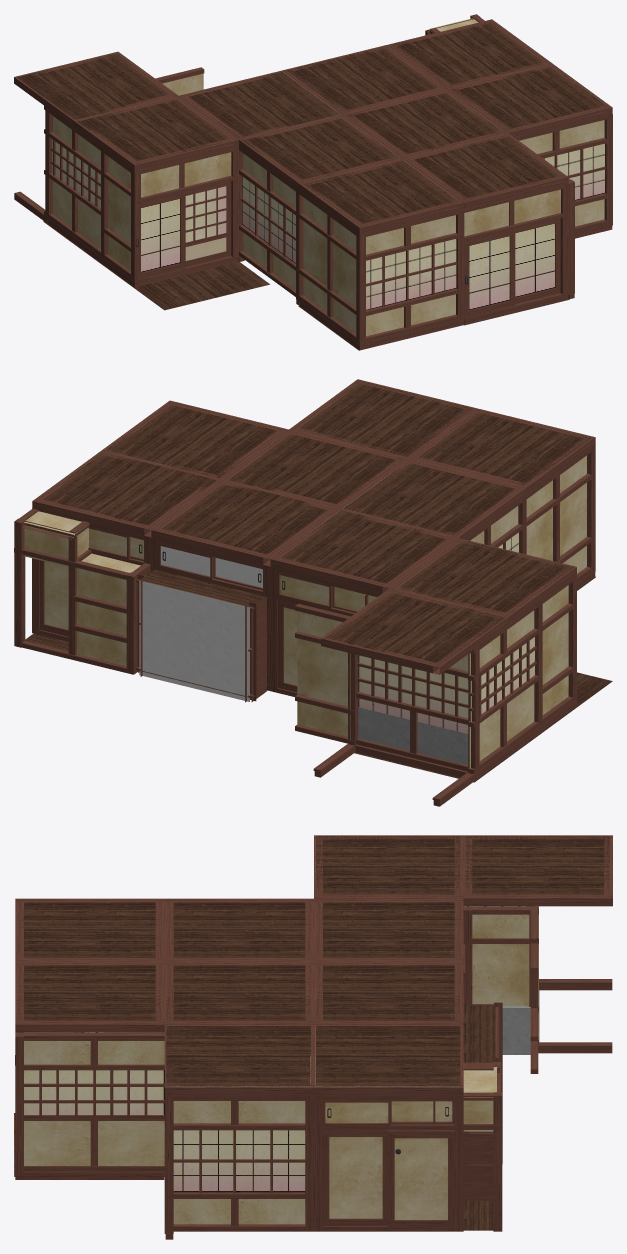
Rendered from japanese_machiya.fbx.
3 views of the same model, one above another, from view 1: azimuth 30°, elevation 25°; view 2: azimuth 150°, elevation 25°; view 3: azimuth 270°, elevation 25° (orthographic). The views are drawn at different scales.
Parts seen in each view (by area): view 1: SM_Japanese_Machiya; view 2: SM_Japanese_Machiya; view 3: SM_Japanese_Machiya.
Part boxes in pixels (bbox=[...]): SM_Japanese_Machiya: bbox=[14, 14, 612, 350]; SM_Japanese_Machiya: bbox=[14, 379, 612, 806]; SM_Japanese_Machiya: bbox=[14, 835, 612, 1239].
Bounding box in the file's own units: 4.07 × 1.12 × 4.01.
